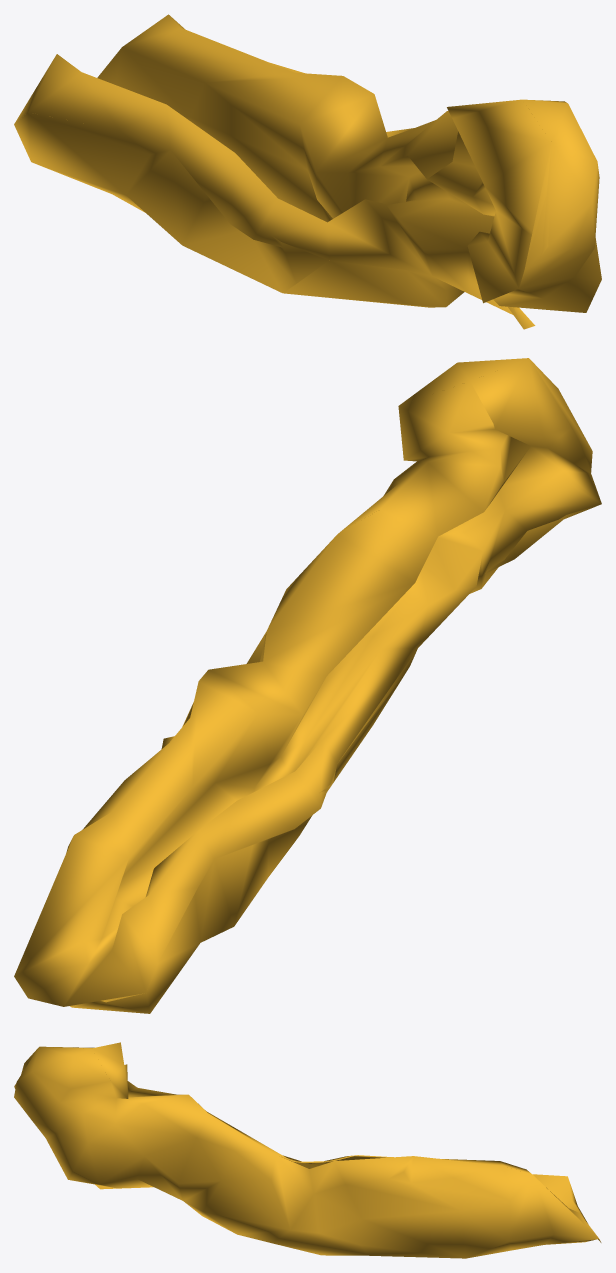
File: nervoso-straight-gyrus-gyrus-rectus-r.glb
3 views of the same model, one above another, from view 1: azimuth 30°, elevation 25°; view 2: azimuth 150°, elevation 25°; view 3: azimuth 270°, elevation 25° (orthographic). The views are drawn at different scales.
Parts seen in each view (by area): view 1: Straight gyrus (Gyrus rectus).r; view 2: Straight gyrus (Gyrus rectus).r; view 3: Straight gyrus (Gyrus rectus).r.
Part boxes in pixels (x1,y1,x2,y2): Straight gyrus (Gyrus rectus).r: (14,14,601,329); Straight gyrus (Gyrus rectus).r: (14,358,601,1013); Straight gyrus (Gyrus rectus).r: (14,1042,601,1258).
Bounding box in the file's own units: 0.012 × 0.0244 × 0.0638.
